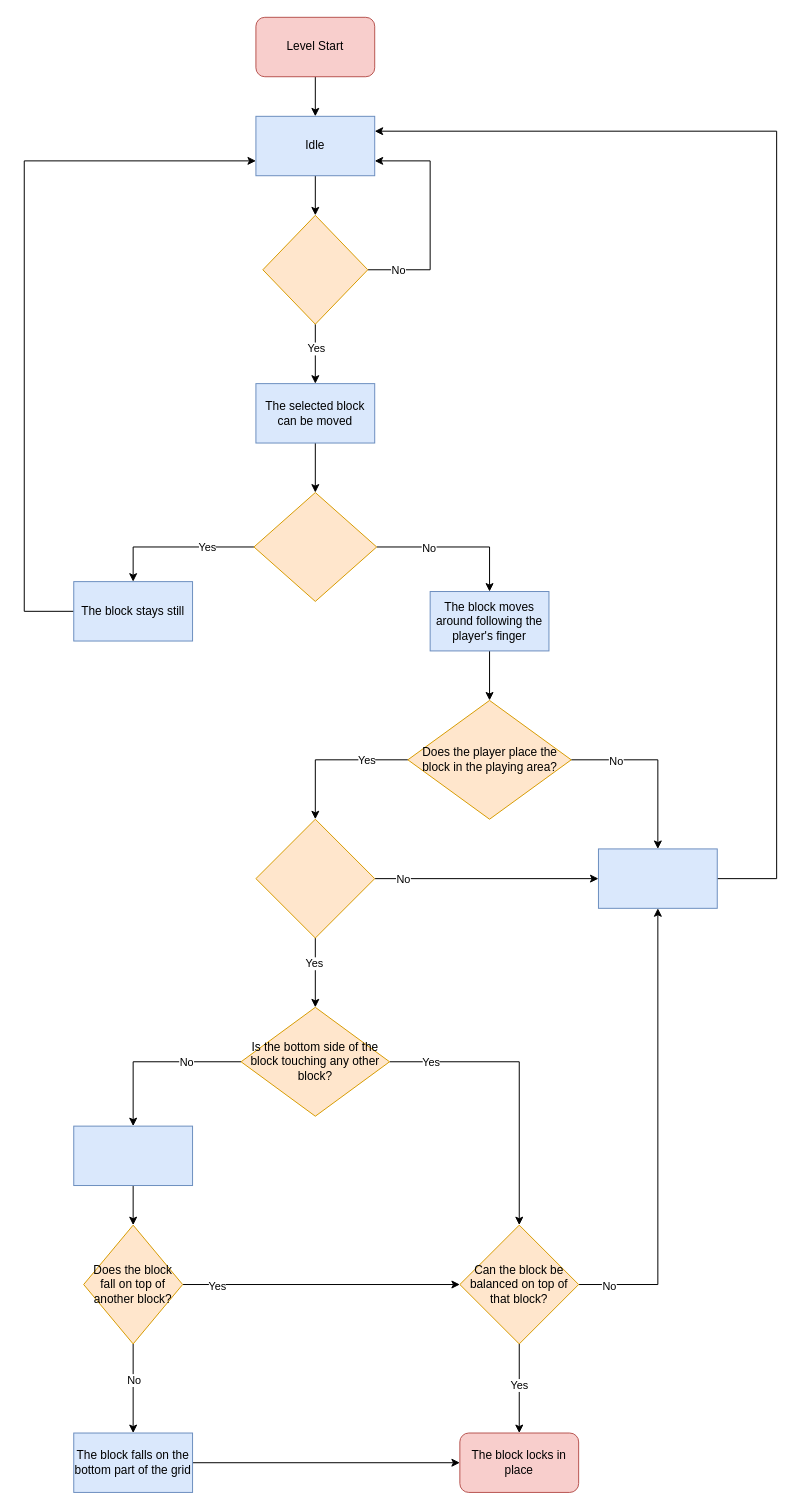
The diagram is 802 pixels wide and 1510 high, and some of its shapes have lost their labels. Here are the shapes that lost their labels. From the top down, the centre of each, then its label:
At point 315,269: "Does the player touch any blocks?".
At point 315,546: "Does the player releases the touch?".
At point 315,878: "Is the block aligned inside the grid??".
At point 657,878: "The block returns in the bottom aerea".
At point 133,1155: "The block will lock inside the grid and fall down".
